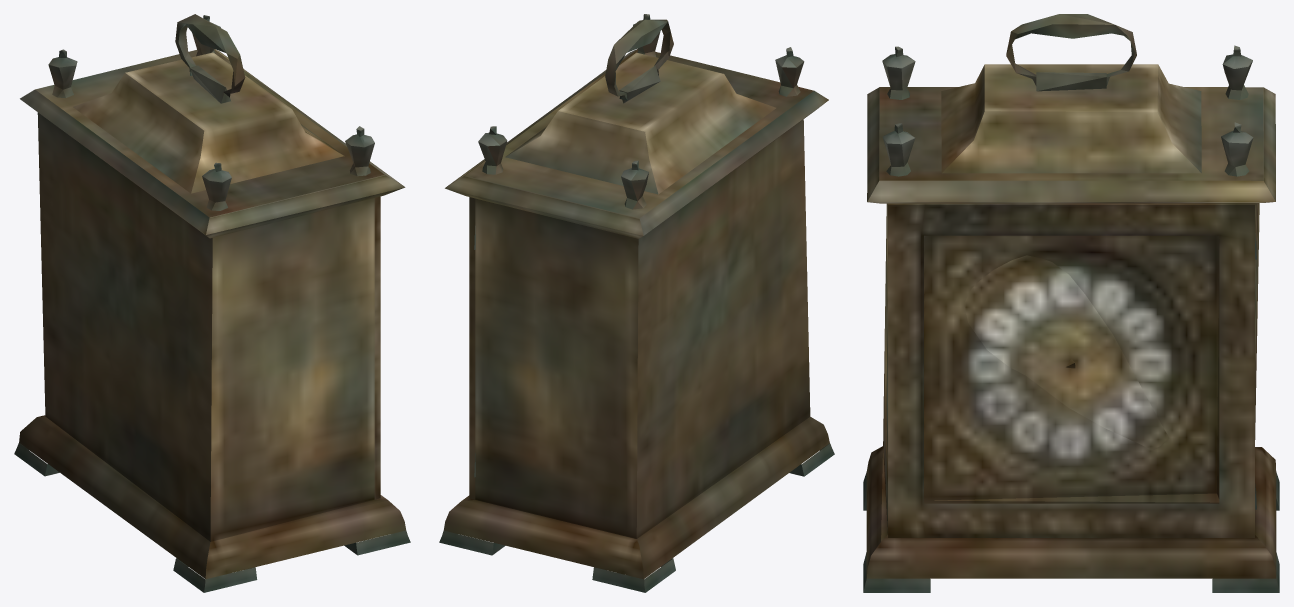
Rendered from clock-carriage.lod1.glb.
3 views of the same model, side by side, from view 1: azimuth 30°, elevation 25°; view 2: azimuth 150°, elevation 25°; view 3: azimuth 270°, elevation 25° (orthographic). The views are drawn at different scales.
Parts seen in each view (by area): view 1: clock-carriage; view 2: clock-carriage; view 3: clock-carriage.
Part boxes in pixels (x1=…): clock-carriage: x1=14, y1=14, x2=410, y2=592; clock-carriage: x1=439, y1=14, x2=834, y2=592; clock-carriage: x1=863, y1=14, x2=1279, y2=592.
Size of the model in its own units: 0.1275 by 0.2804 by 0.2026.
Materials: 1 (1 with a texture image).
